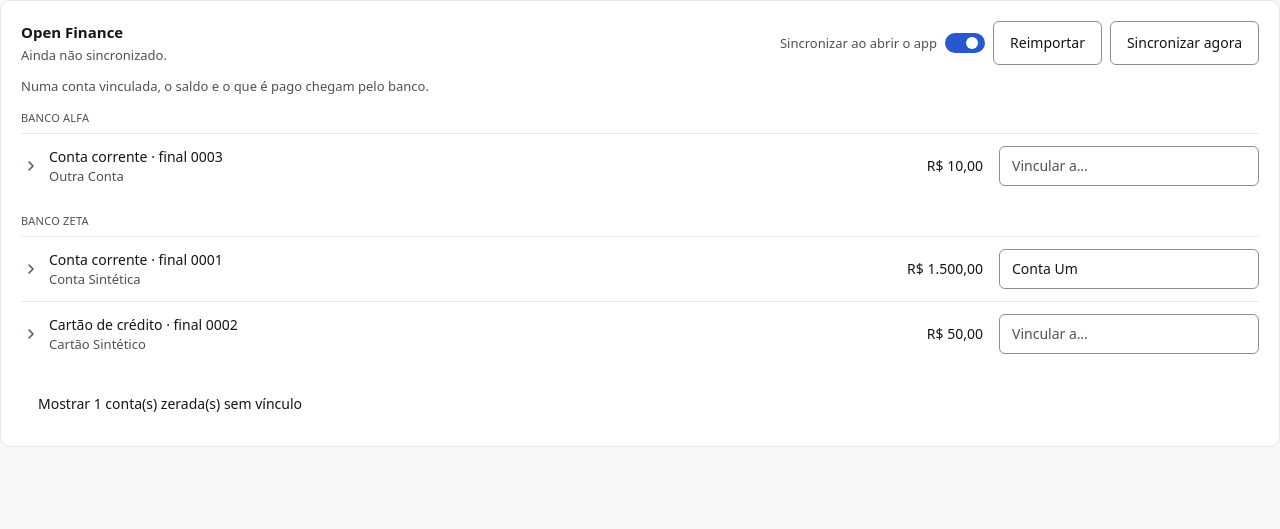
it: OpenFinanceLinksCard › agrupa por banco em ordem alfabética e recolhe as zeradas sem vínculo
This screenshot has width=1280, height=529.
Check: the text "Pré-paga zerada" is not shown
Click the button "Mostrar 1 conta(s) zerada(s) sem vínculo". click: (170, 404)
box: [21,382,319,426]
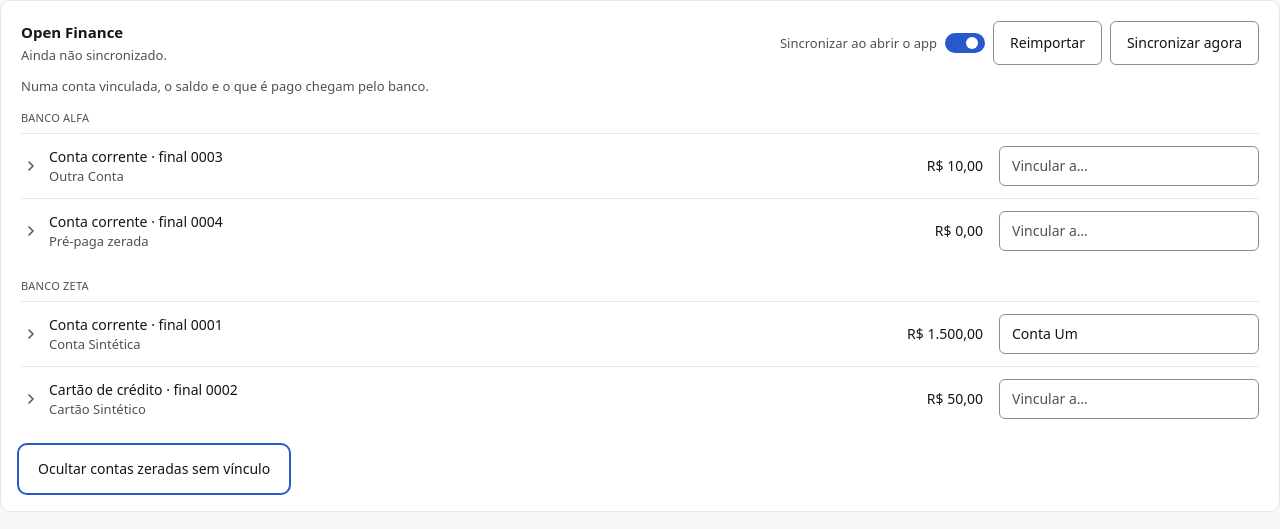
Check: the text "Pré-paga zerada" is shown, box [49,232,149,250]
